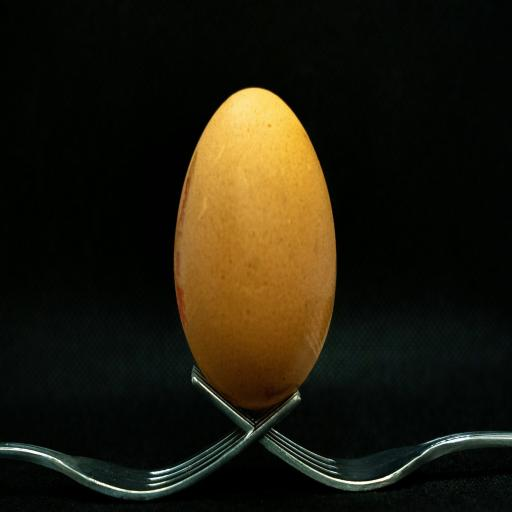telur: (174, 88, 336, 408)
